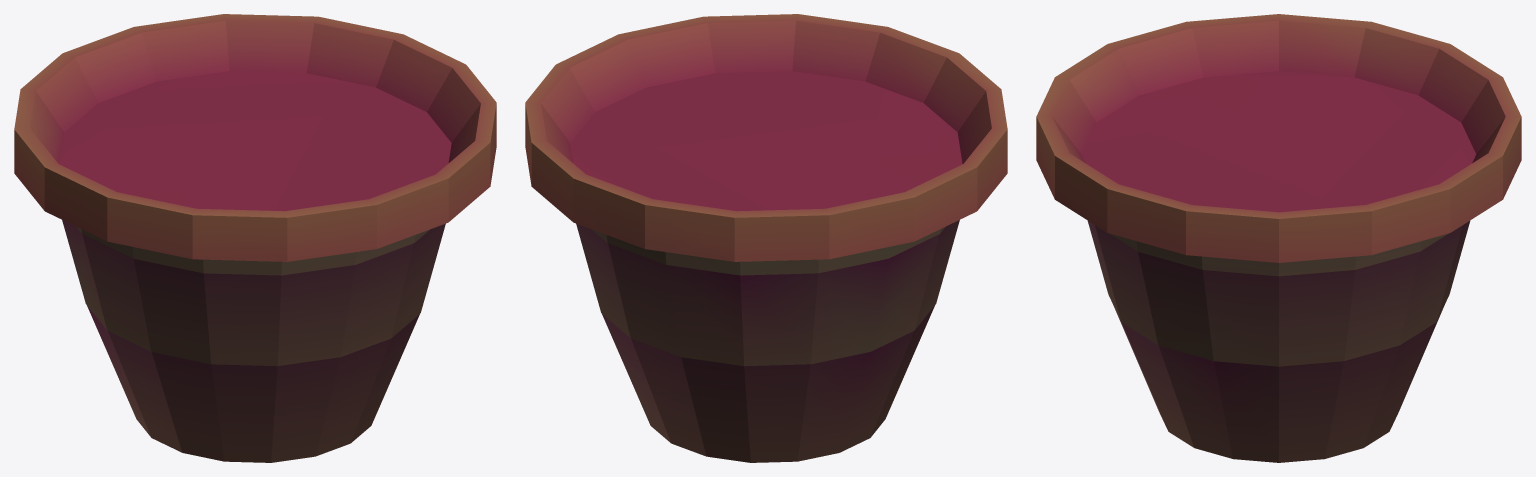
3 renders of one model, left to right at view 1: azimuth 30°, elevation 25°; view 2: azimuth 150°, elevation 25°; view 3: azimuth 270°, elevation 25°, orthographic.
Visible parts, largest first — view 1: body_band.001, body_band; view 2: body_band.001, body_band; view 3: body_band.001, body_band.
Part boxes in pixels (<box>): body_band.001: <box>14,14,496,261</box>; body_band: <box>62,220,445,462</box>; body_band.001: <box>525,14,1007,261</box>; body_band: <box>576,220,959,462</box>; body_band.001: <box>1036,14,1521,262</box>; body_band: <box>1087,221,1470,462</box>.
Bounding box in the file's own units: 0.3 × 0.2019 × 0.3.
